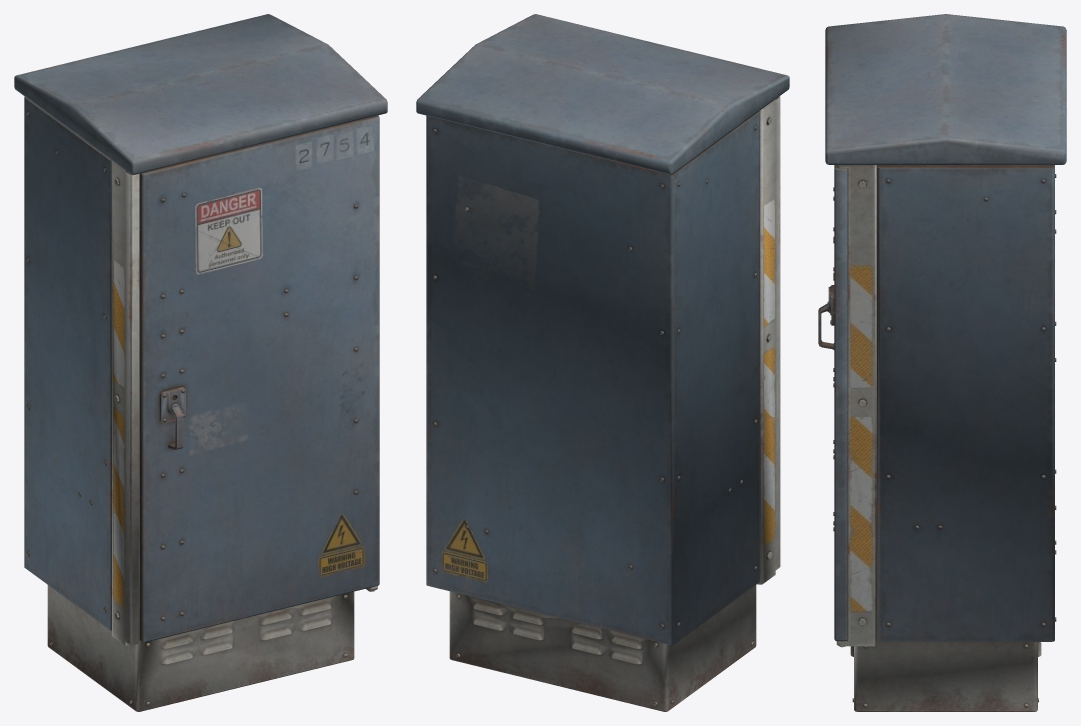
Rendered from utility_box_01.fbx.
The picture shows the model from 3 angles, left to right: view 1: azimuth 30°, elevation 25°; view 2: azimuth 150°, elevation 25°; view 3: azimuth 270°, elevation 25°; orthographic projection.
Parts seen in each view (by area): view 1: utility_box_01_LOD0; view 2: utility_box_01_LOD0; view 3: utility_box_01_LOD0.
Part boxes in pixels (x1,y1,x2,y2): utility_box_01_LOD0: [14, 14, 387, 711]; utility_box_01_LOD0: [416, 14, 789, 711]; utility_box_01_LOD0: [818, 14, 1066, 711].
Size of what is drawn, in the model's own units: 52 by 112 by 43.2.
Materials: 1 (1 with a texture image).
